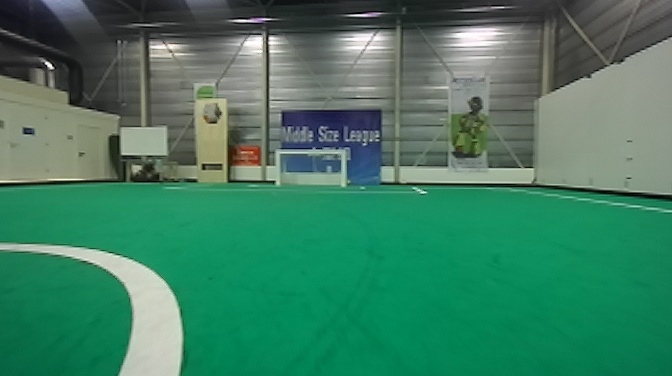goalpost: (332, 147, 350, 191), (270, 148, 288, 187)
